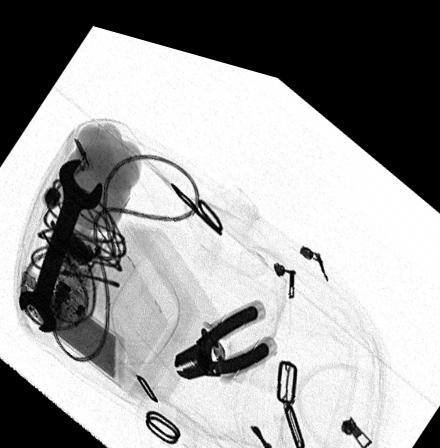Pliers: (175, 291, 271, 371)
Powerbank: (25, 264, 123, 382)
Wrench: (18, 155, 104, 329)
